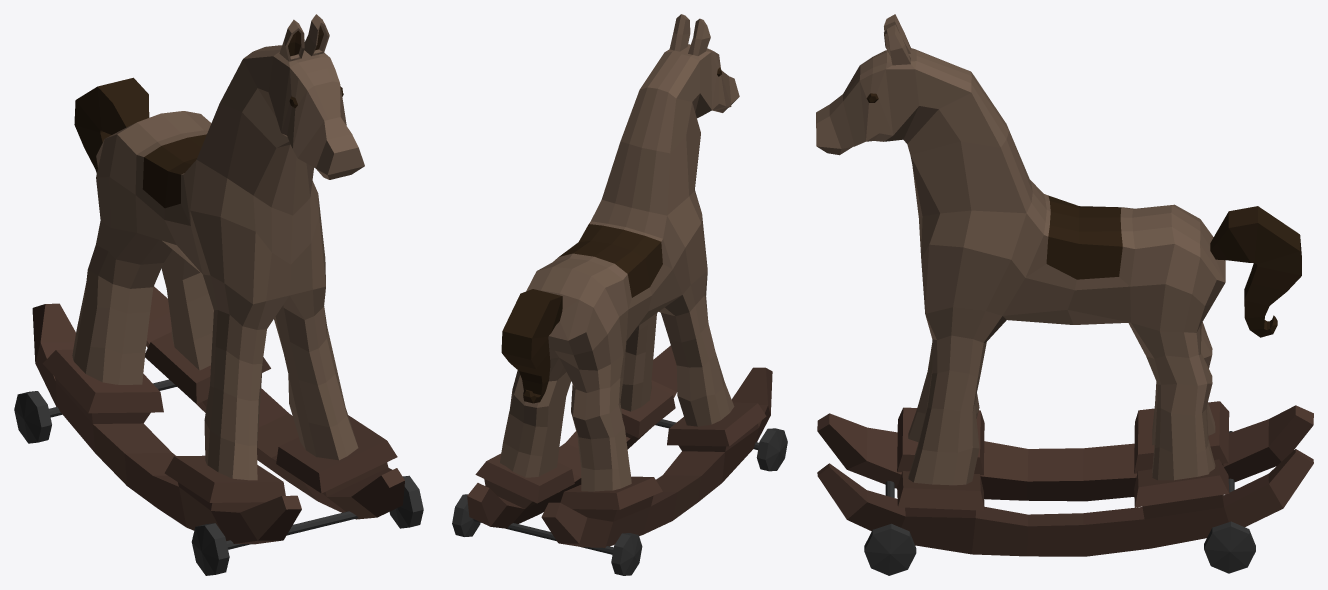
File: Horse01.fbx
3 views of the same model, side by side, from view 1: azimuth 30°, elevation 25°; view 2: azimuth 150°, elevation 25°; view 3: azimuth 270°, elevation 25° (orthographic). The views are drawn at different scales.
Parts seen in each view (by area): view 1: Cube.001; view 2: Cube.001; view 3: Cube.001.
Boxes of the visible parts, bbox=[...] form: Cube.001: bbox=[14, 14, 423, 575]; Cube.001: bbox=[452, 14, 787, 575]; Cube.001: bbox=[816, 14, 1313, 575].
Bounding box in the file's own units: 205 × 490 × 435.
